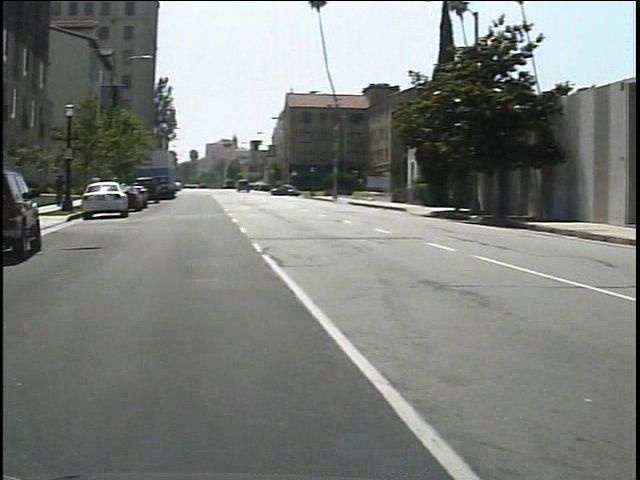person: (46, 171, 59, 209)
